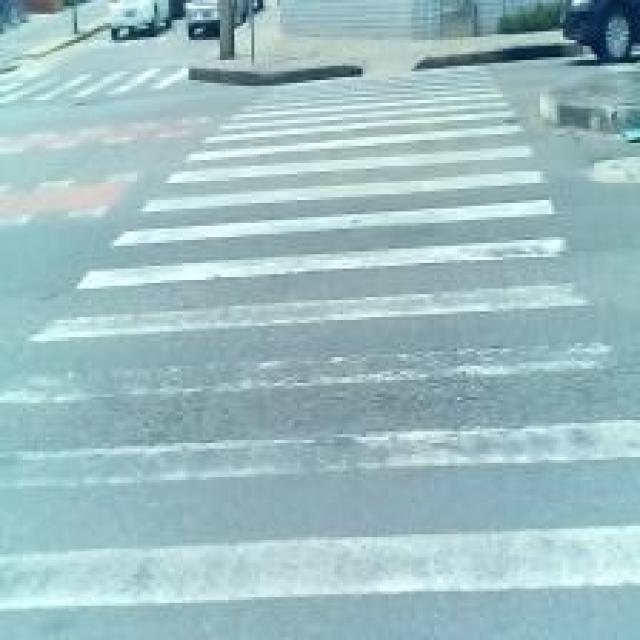walk-crossing: (30, 80, 608, 611)
